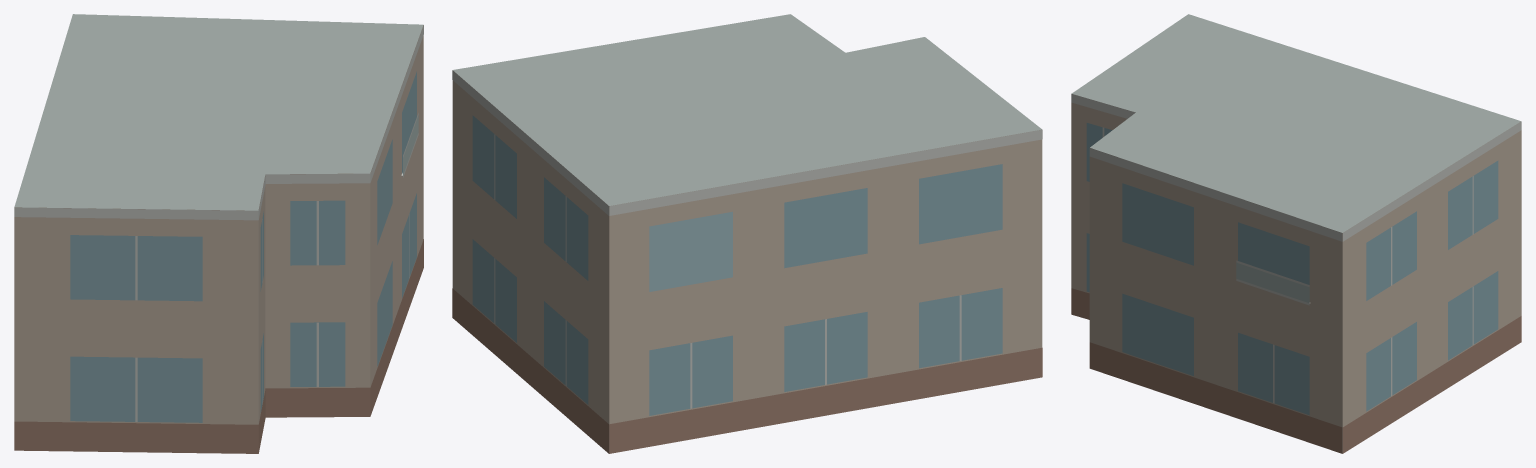
Rendered from survey-upis-32594081.glb.
3 renders of one model, left to right at view 1: azimuth 30°, elevation 25°; view 2: azimuth 150°, elevation 25°; view 3: azimuth 270°, elevation 25°, orthographic. The views are drawn at different scales.
Parts seen in each view (by area): view 1: survey-upis-32594081.tmp; view 2: survey-upis-32594081.tmp; view 3: survey-upis-32594081.tmp.
Part boxes in pixels (<box>): survey-upis-32594081.tmp: <box>14,14,423,453</box>; survey-upis-32594081.tmp: <box>452,14,1042,453</box>; survey-upis-32594081.tmp: <box>1071,14,1521,453</box>.
Size of the model in its own units: 12.98 by 6.1 by 11.28.
